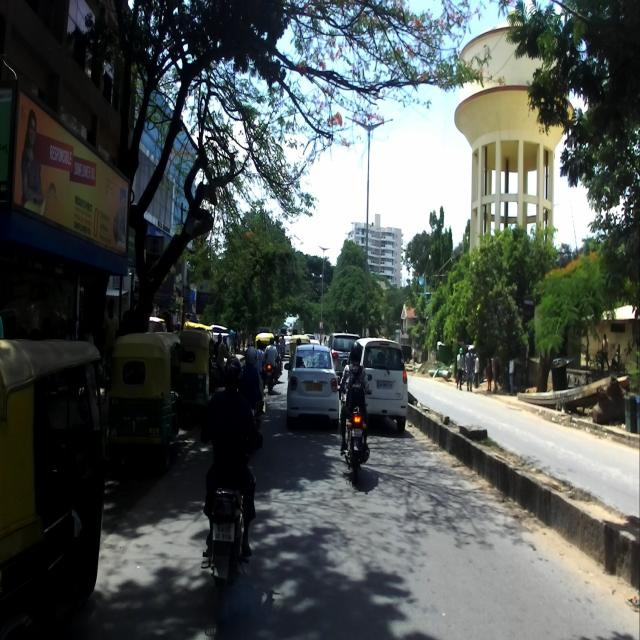autorickshaw: (0, 336, 109, 638), (114, 327, 185, 478)
car: (340, 337, 408, 432)
motorcycle: (198, 400, 263, 606), (337, 372, 373, 483)
